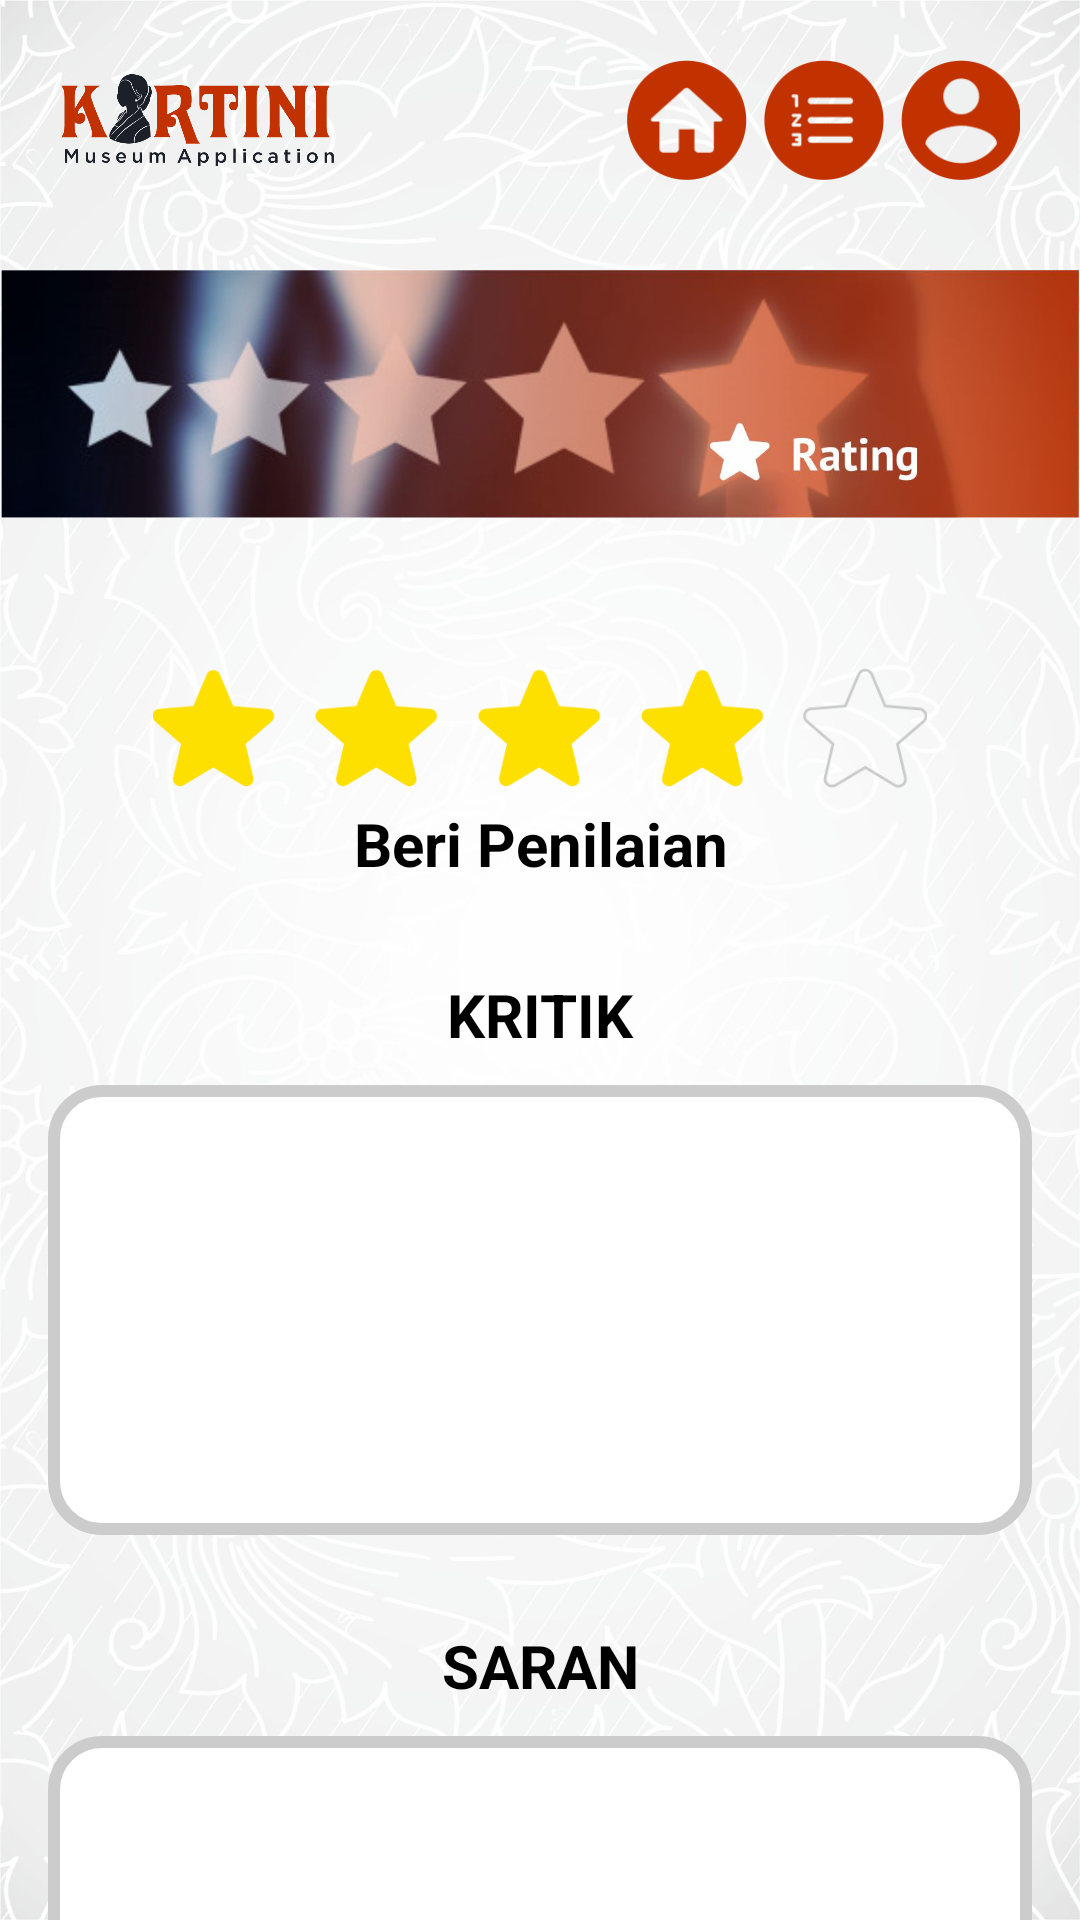

Where icons sit on this 1080x1920 app screen, as [x1, y1, x2, y2]:
home: [627, 60, 747, 180]
menu: [764, 60, 884, 180]
user: [901, 60, 1020, 180]
